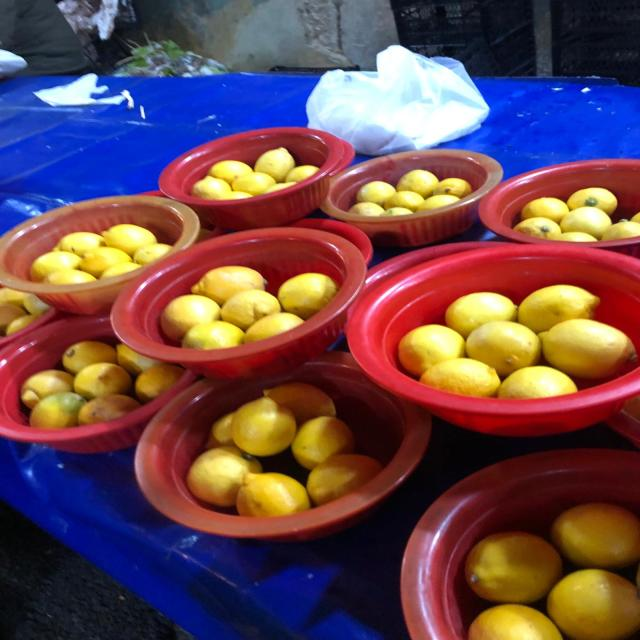lemon: (460, 519, 568, 607), (530, 311, 638, 377), (224, 393, 311, 464), (234, 469, 318, 528), (464, 318, 544, 373), (189, 258, 272, 304)
